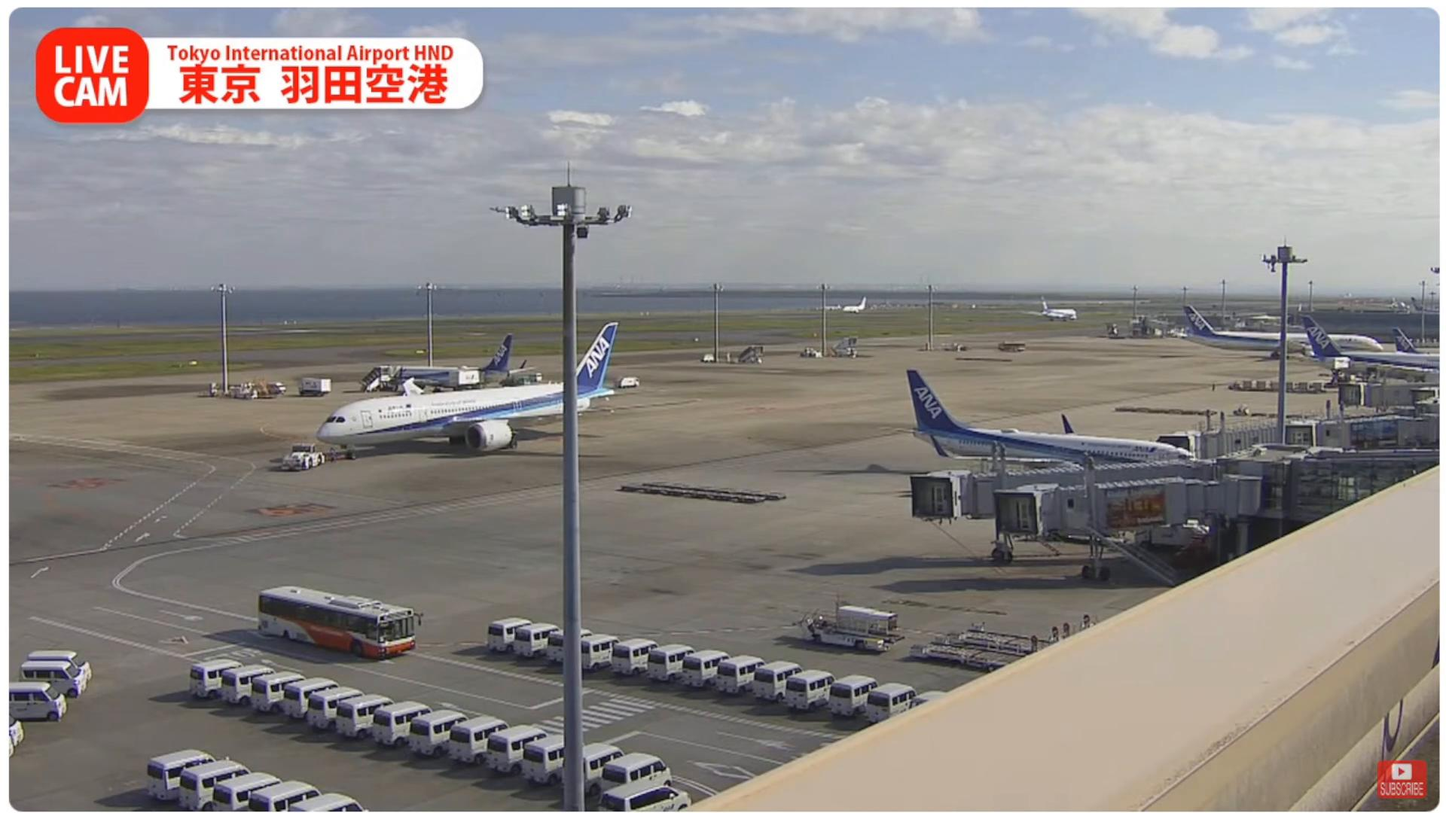APS: (280, 443, 324, 473)
Aerobridge: (909, 459, 1219, 522), (991, 476, 1264, 540)
Airplane: (313, 321, 618, 452)
JCPL: (930, 626, 1059, 654), (911, 641, 1025, 671)
Skyloader: (794, 600, 908, 654)
Window: (1290, 456, 1440, 523)
